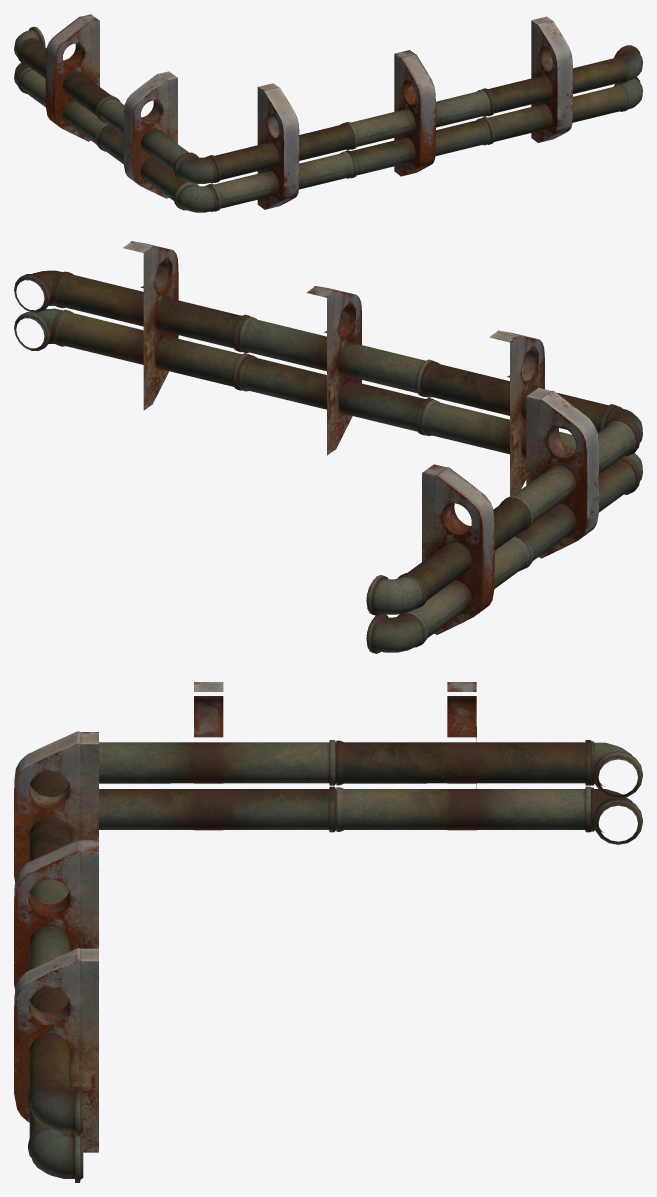
Rendered from double_pipe_corner.glb.
3 renders of one model, top to bottom at view 1: azimuth 30°, elevation 25°; view 2: azimuth 150°, elevation 25°; view 3: azimuth 270°, elevation 25°, orthographic. The views are drawn at different scales.
Parts seen in each view (by area): view 1: SM_DoublePipeCorner; view 2: SM_DoublePipeCorner; view 3: SM_DoublePipeCorner.
Part boxes in pixels (box(x1,y1,x2,y2)): SM_DoublePipeCorner: box(14, 14, 642, 212); SM_DoublePipeCorner: box(14, 241, 642, 653); SM_DoublePipeCorner: box(14, 682, 642, 1182).
Bounding box in the file's own units: 8.63 × 2.07 × 6.13.
Materials: 1 (1 with a texture image).
